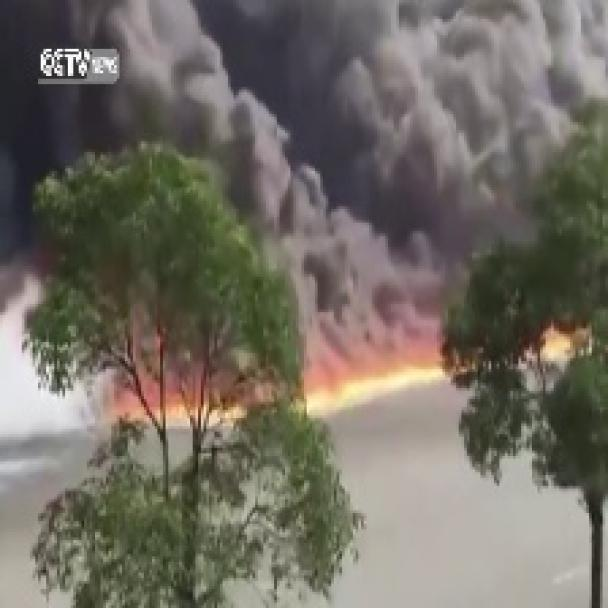smoke: (0, 0, 606, 481)
